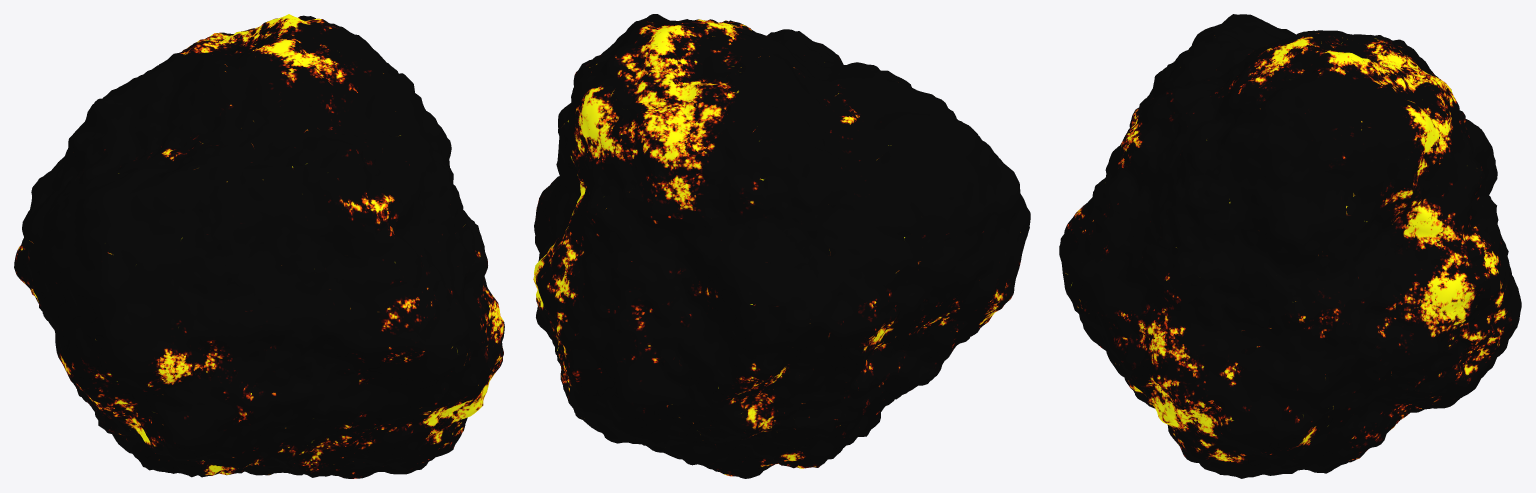
File: asteroid_01.glb
The picture shows the model from 3 angles, left to right: view 1: azimuth 30°, elevation 25°; view 2: azimuth 150°, elevation 25°; view 3: azimuth 270°, elevation 25°; orthographic projection. The views are drawn at different scales.
Parts seen in each view (by area): view 1: Cube; view 2: Cube; view 3: Cube.
Boxes of the visible parts, left/top/right/bottom form: Cube: left=14, top=14, right=504, bottom=478; Cube: left=533, top=14, right=1030, bottom=478; Cube: left=1059, top=14, right=1521, bottom=478.
Bounding box in the file's own units: 1.82 × 1.74 × 1.77.
Materials: 1 (1 with a texture image).
